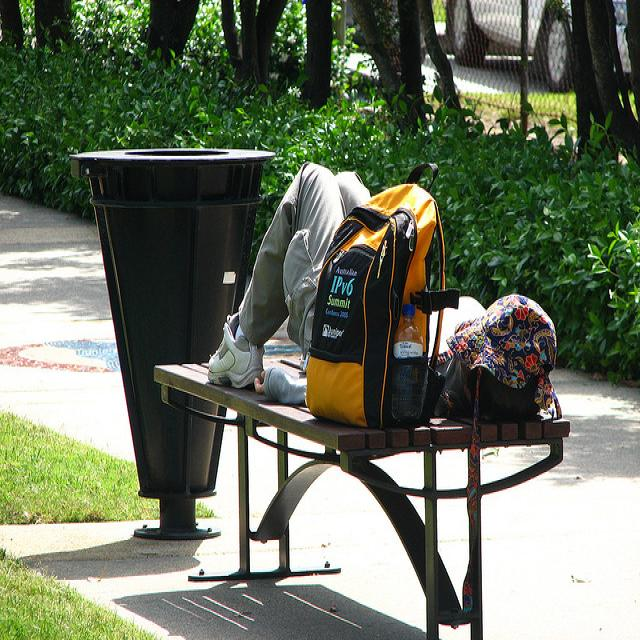Vehicle: (444, 1, 569, 91)
